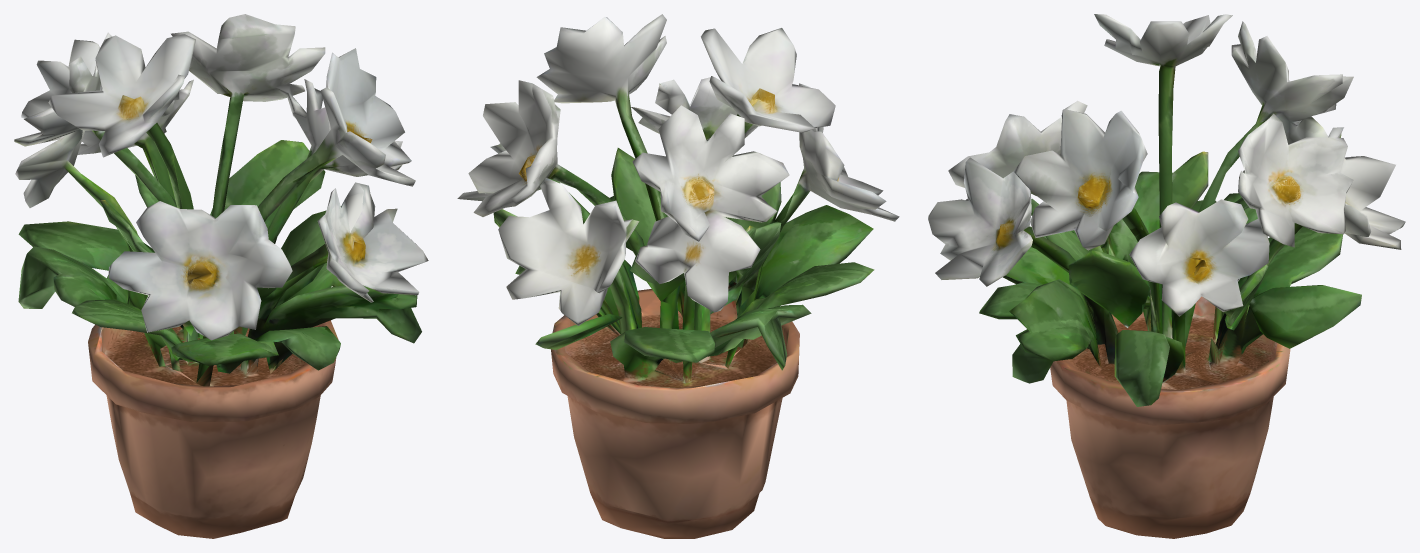
Rendered from potWhiteFlowersLily.fbx.
3 renders of one model, left to right at view 1: azimuth 30°, elevation 25°; view 2: azimuth 150°, elevation 25°; view 3: azimuth 270°, elevation 25°, orthographic.
Visible parts, largest first — view 1: potWhiteFlowers; view 2: potWhiteFlowers; view 3: potWhiteFlowers.
Boxes of the visible parts, bbox=[...] form: potWhiteFlowers: bbox=[14, 14, 428, 538]; potWhiteFlowers: bbox=[457, 14, 899, 538]; potWhiteFlowers: bbox=[928, 14, 1405, 538].
Size of the model in its own units: 39.05 by 50 by 45.98.
